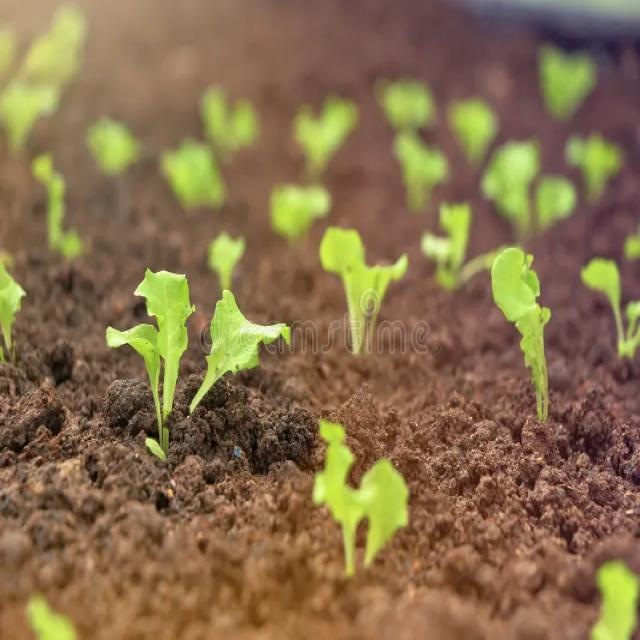verde: (106, 268, 289, 459), (313, 419, 408, 575), (491, 247, 550, 419)
